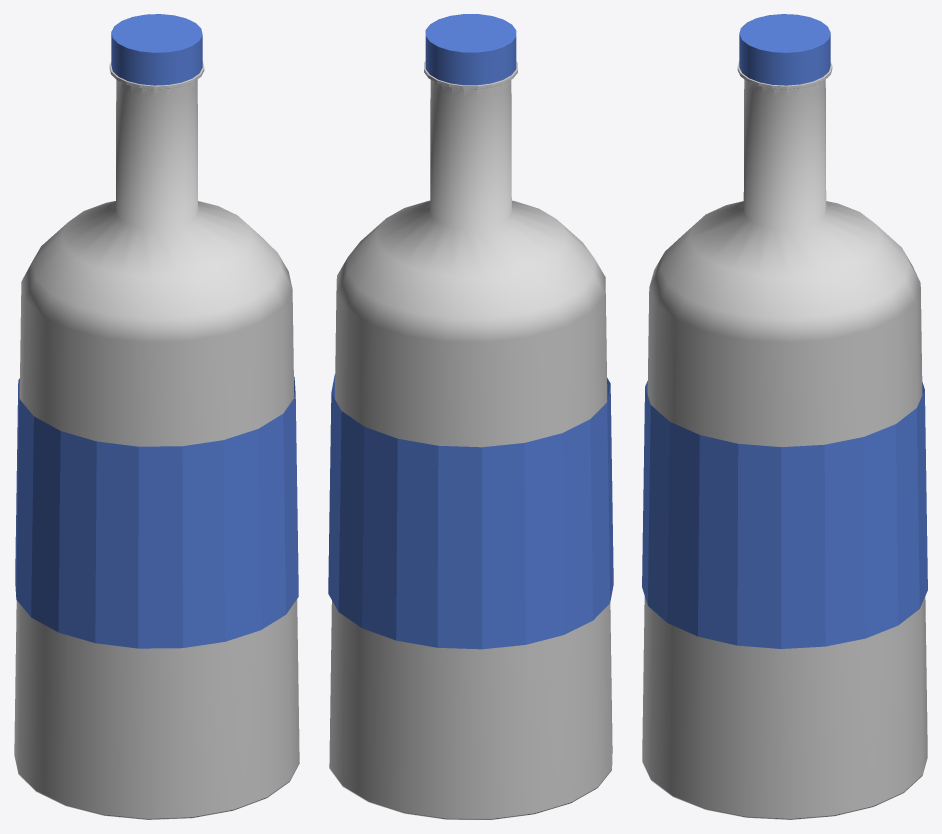
File: Bottle_9.fbx
The picture shows the model from 3 angles, left to right: view 1: azimuth 30°, elevation 25°; view 2: azimuth 150°, elevation 25°; view 3: azimuth 270°, elevation 25°; orthographic projection.
Visible parts, largest first — view 1: polySurface3, bottle_name, cap; view 2: polySurface3, bottle_name, cap; view 3: polySurface3, bottle_name, cap.
Boxes of the visible parts, x1,y1,x2,y2 form: polySurface3: (14,61,299,819); bottle_name: (15,377,298,648); cap: (111,14,202,85); polySurface3: (329,61,612,819); bottle_name: (328,374,613,649); cap: (425,14,516,85); polySurface3: (642,61,927,819); bottle_name: (642,380,927,648); cap: (739,14,830,85).
Size of the model in its own units: 0.354 by 0.9918 by 0.354.
